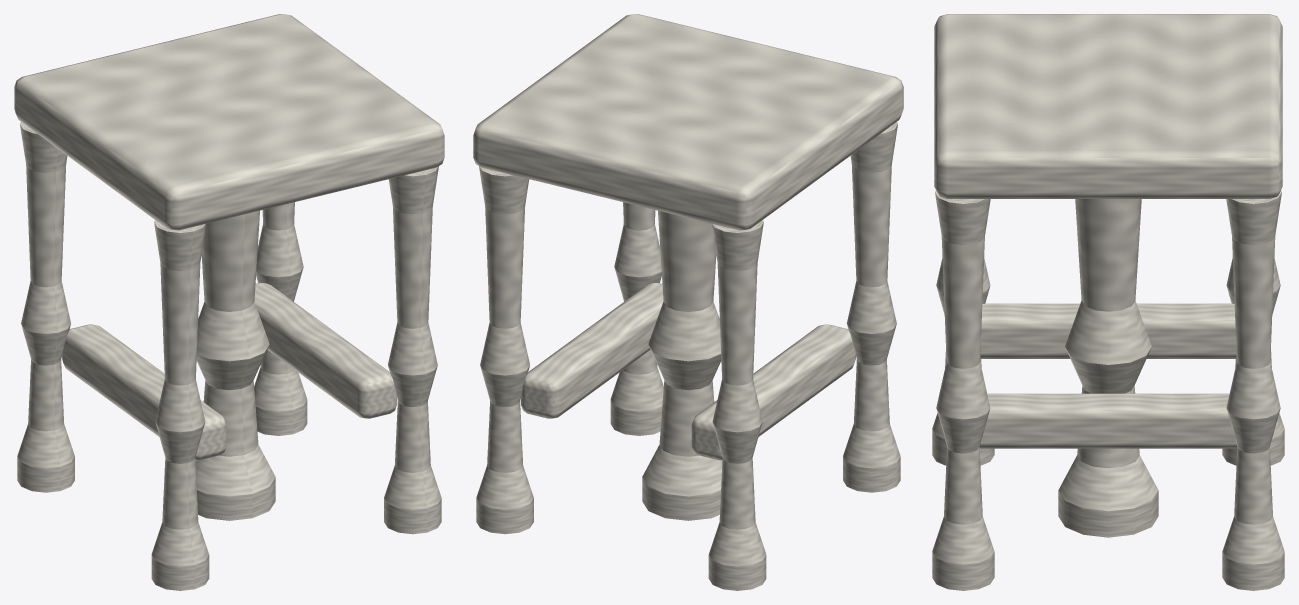
The model's file is witch-cottage-and-apothecary-mismatched-stool-painted-e224a042__32449.glb.
3 renders of one model, left to right at view 1: azimuth 30°, elevation 25°; view 2: azimuth 150°, elevation 25°; view 3: azimuth 270°, elevation 25°, orthographic. The views are drawn at different scales.
Parts seen in each view (by area): view 1: mismatched-stool-painted; view 2: mismatched-stool-painted; view 3: mismatched-stool-painted.
Part boxes in pixels (x1=…): mismatched-stool-painted: x1=14, y1=14, x2=444, y2=590; mismatched-stool-painted: x1=473, y1=14, x2=903, y2=590; mismatched-stool-painted: x1=932, y1=14, x2=1284, y2=590.
Size of the model in its own units: 0.3644 by 0.495 by 0.3644.
Materials: 1 (1 with a texture image).
